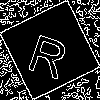R: (25, 25, 74, 80)
